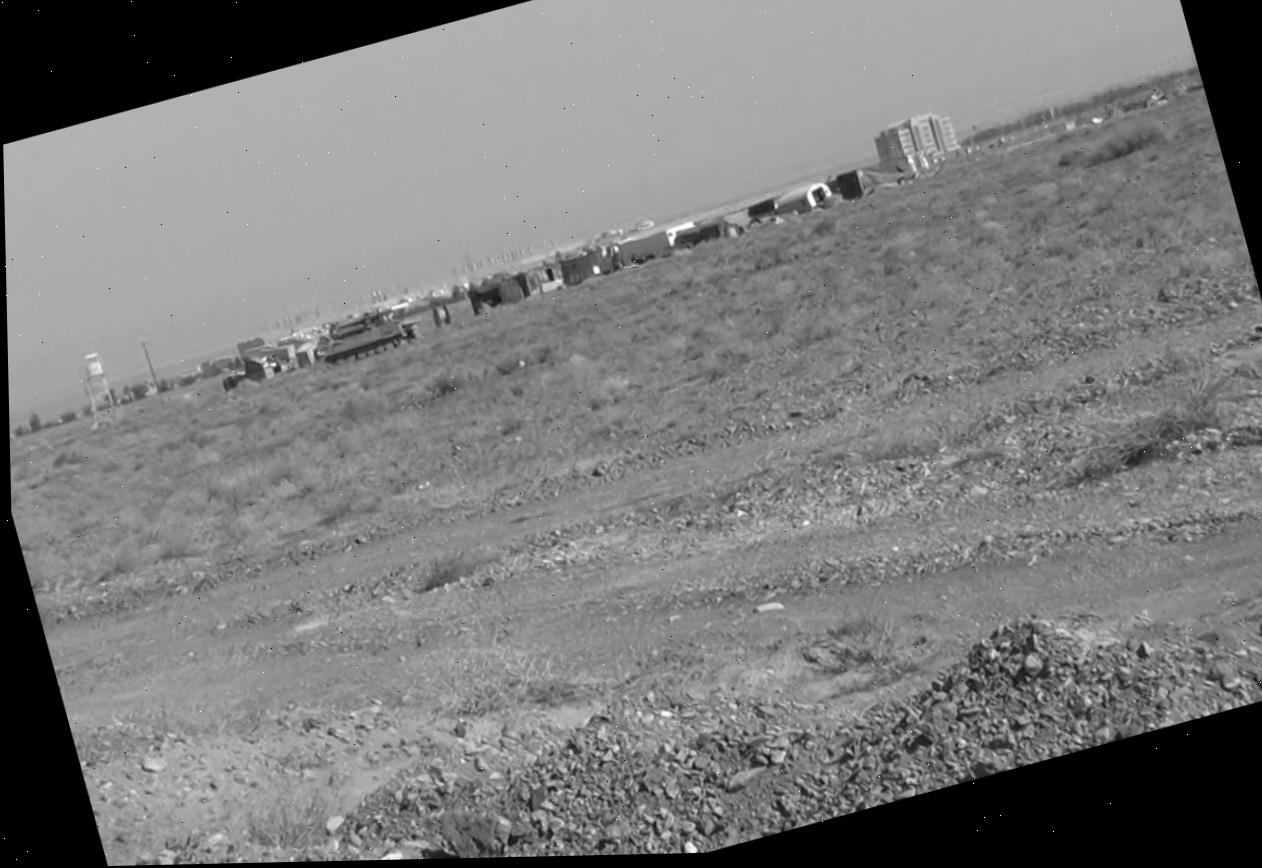armored_car: (309, 296, 424, 374)
